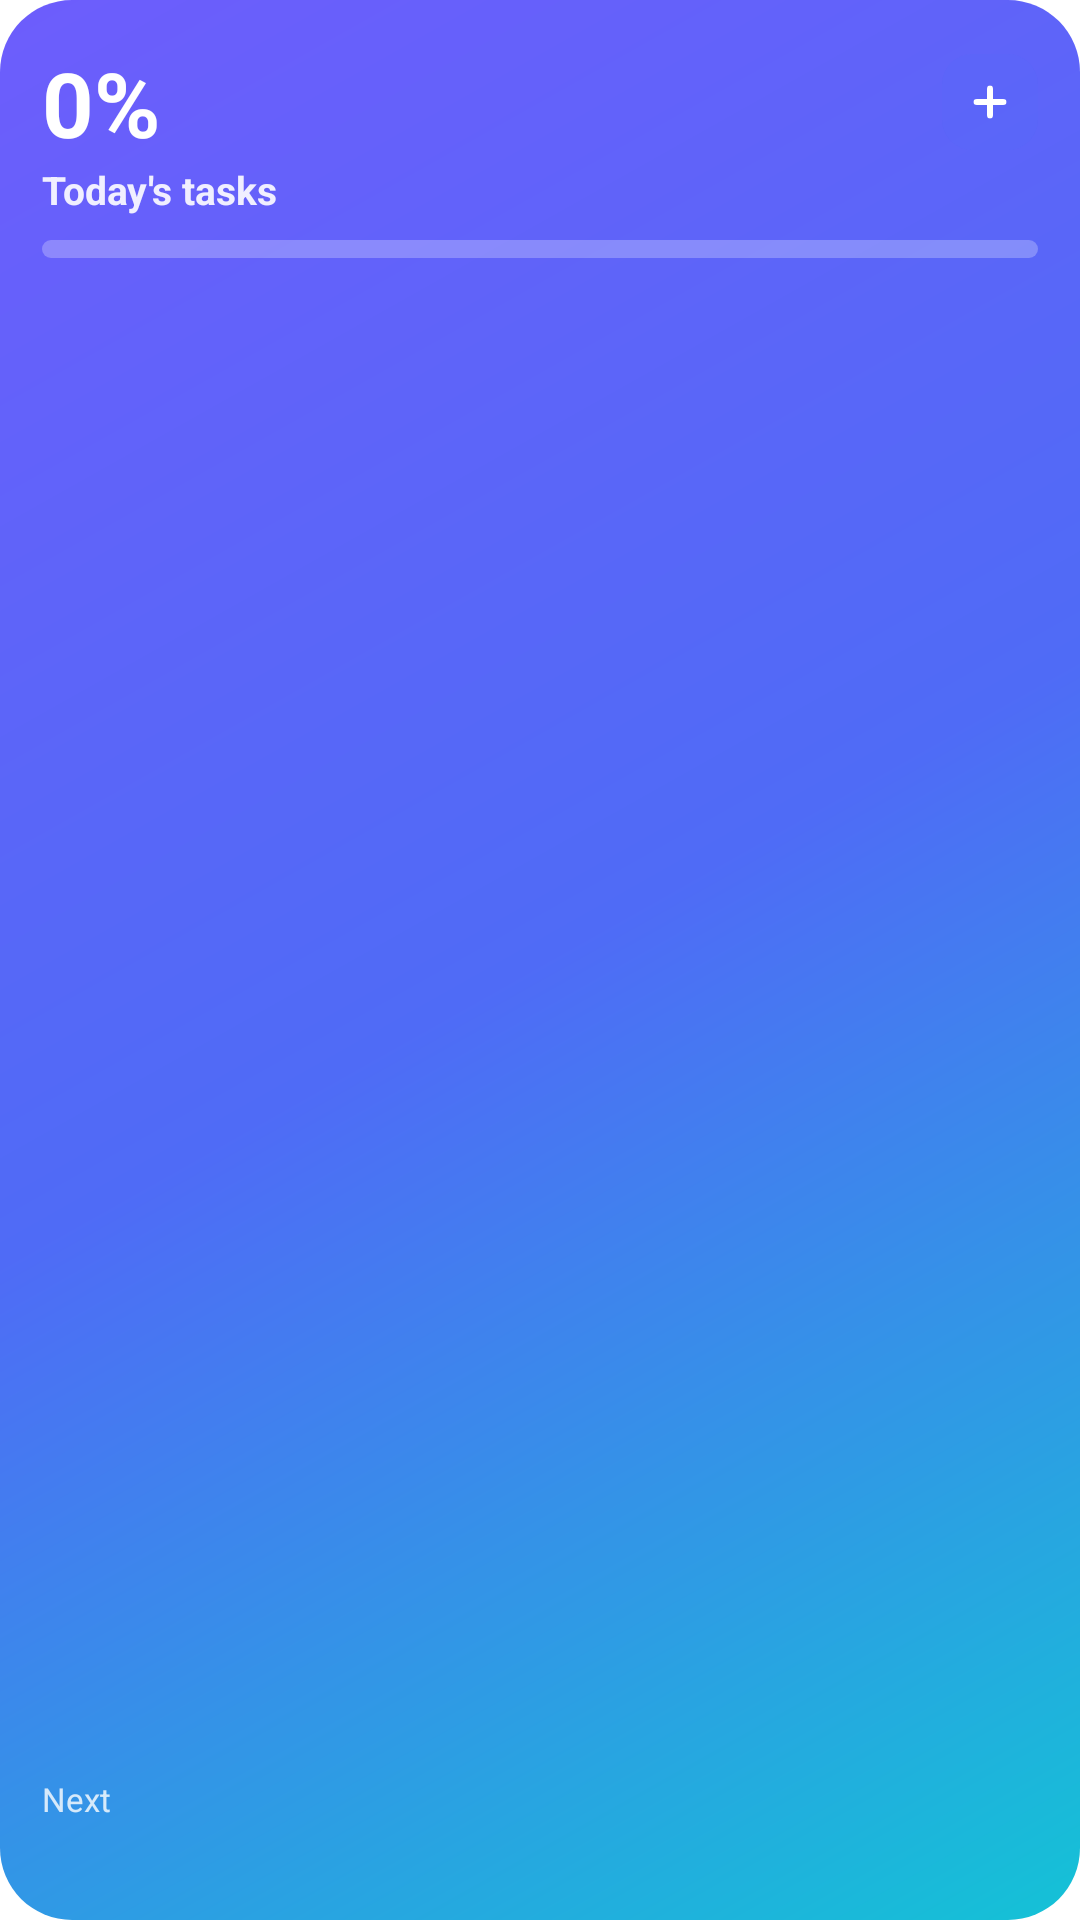

Locate icon controls on the screen. Image size 1080*1920, boxes as (x1, y1, x2, y2).
widget add: (973, 85, 1007, 119)
